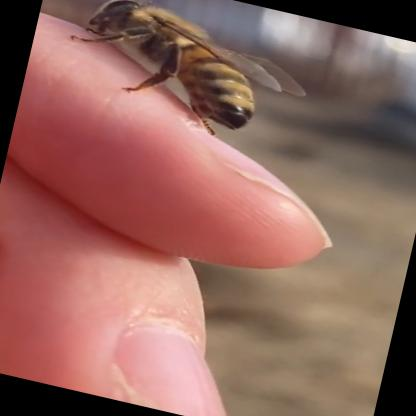bee: (39, 0, 342, 190)
